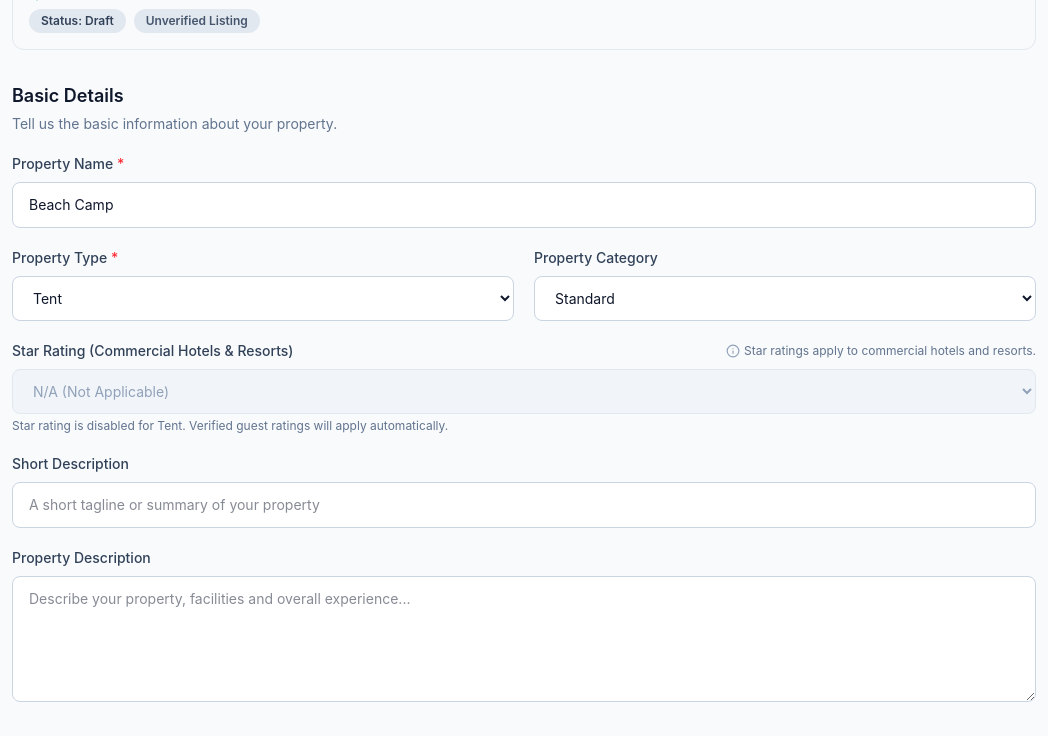
Test: Property Type Matrix & State Reset Comprehensive Suite › Property Type State Reset Transitions › re-enables total floors and construction years when changing property type from Tent to Hotel
Select "Hotel" in the dropdown labelled "Property Type *" at (263, 298), box x1=12 y1=276 x2=514 y2=321
(page scrolled)
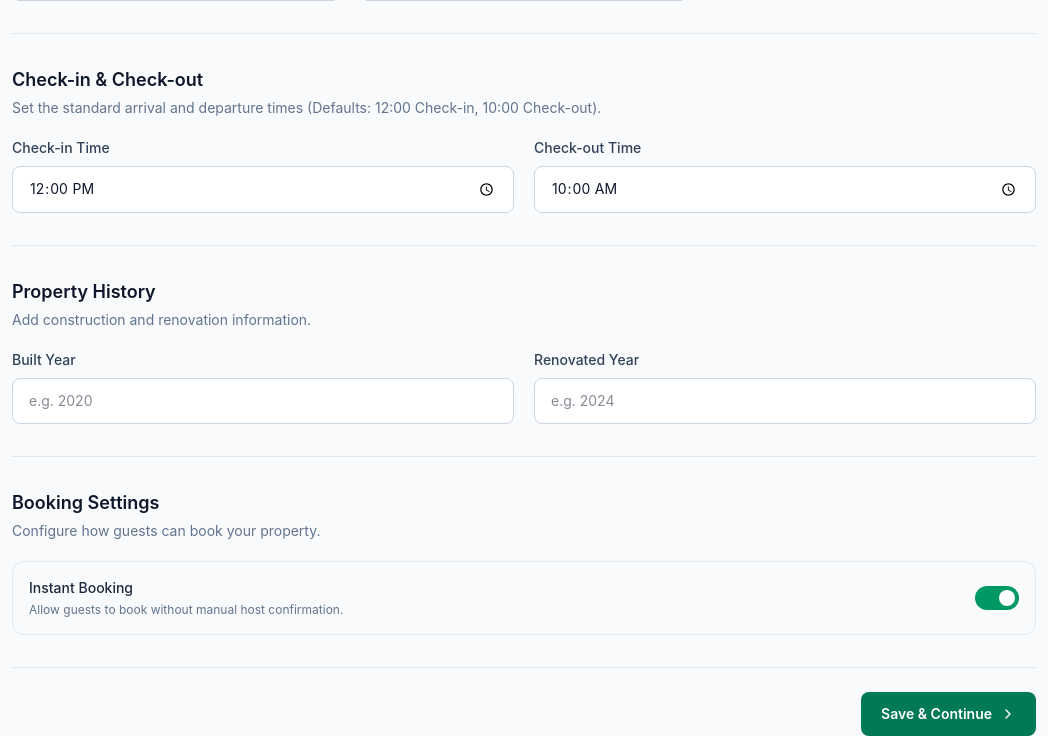
Result: the number field labelled "Built Year" is shown at x1=12 y1=378 x2=514 y2=424
